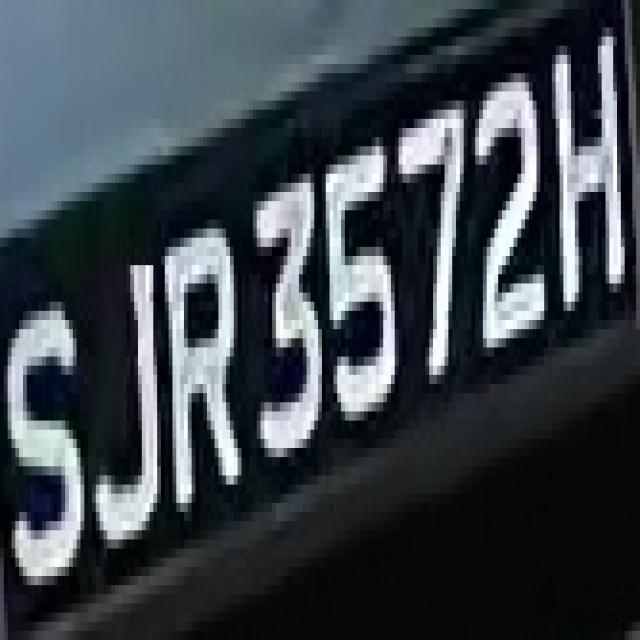2: (464, 73, 556, 384)
3: (238, 165, 330, 466)
5: (322, 137, 402, 448)
7: (383, 100, 479, 412)
H: (540, 0, 628, 338)
J: (84, 210, 169, 558)
R: (165, 210, 249, 530)
S: (0, 265, 96, 613)
